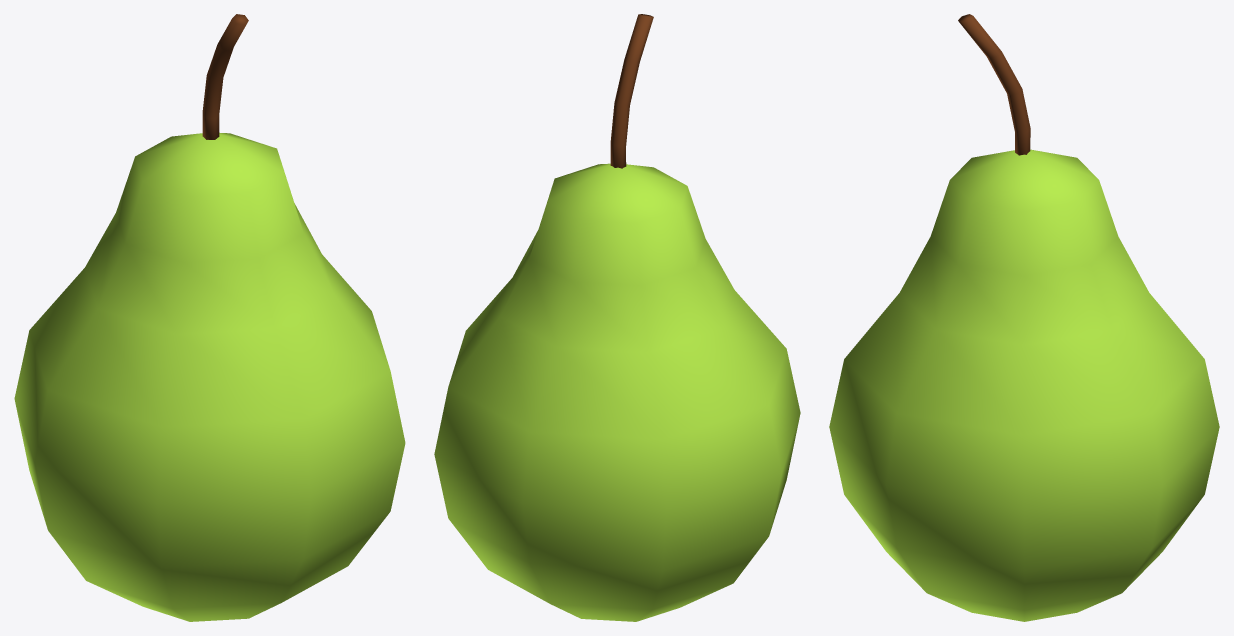
File: Pera.fbx
The picture shows the model from 3 angles, left to right: view 1: azimuth 30°, elevation 25°; view 2: azimuth 150°, elevation 25°; view 3: azimuth 270°, elevation 25°; orthographic projection. The views are drawn at different scales.
Parts seen in each view (by area): view 1: Pear; view 2: Pear; view 3: Pear.
Part boxes in pixels (<box>): Pear: <box>14,14,405,621</box>; Pear: <box>434,14,800,621</box>; Pear: <box>829,14,1219,621</box>.
Bounding box in the file's own units: 200 × 332 × 200.
